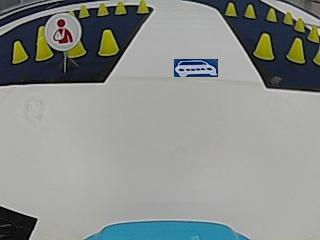cone: (35, 28, 53, 61), (253, 33, 274, 60), (98, 29, 119, 56), (287, 38, 305, 63), (11, 40, 28, 63), (67, 39, 87, 58), (307, 25, 319, 42), (135, 0, 148, 14), (224, 2, 237, 16), (244, 3, 256, 18), (114, 1, 126, 15), (294, 17, 305, 32), (96, 3, 108, 16), (78, 5, 90, 18), (266, 8, 277, 21), (283, 11, 293, 24)
patient: (44, 11, 77, 46)
